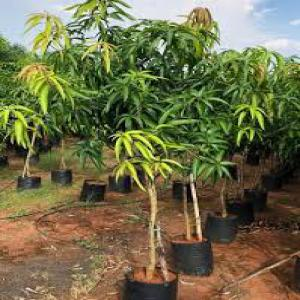Tree: (21, 8, 296, 298)
